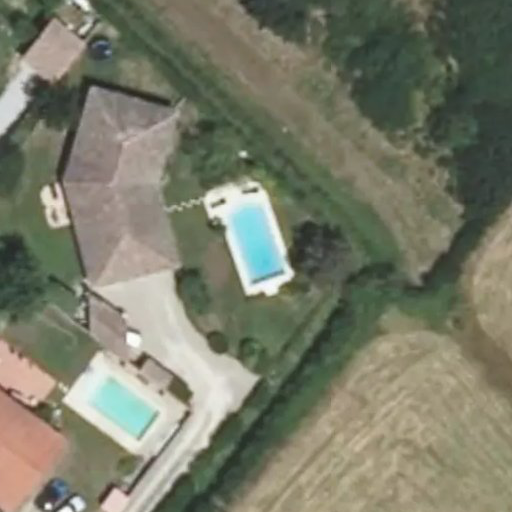pool: (222, 204, 285, 273)
